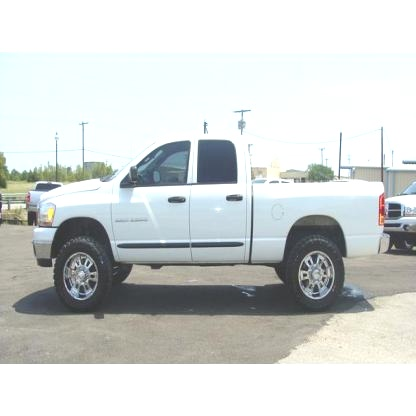Vehicle: (33, 135, 391, 315)
